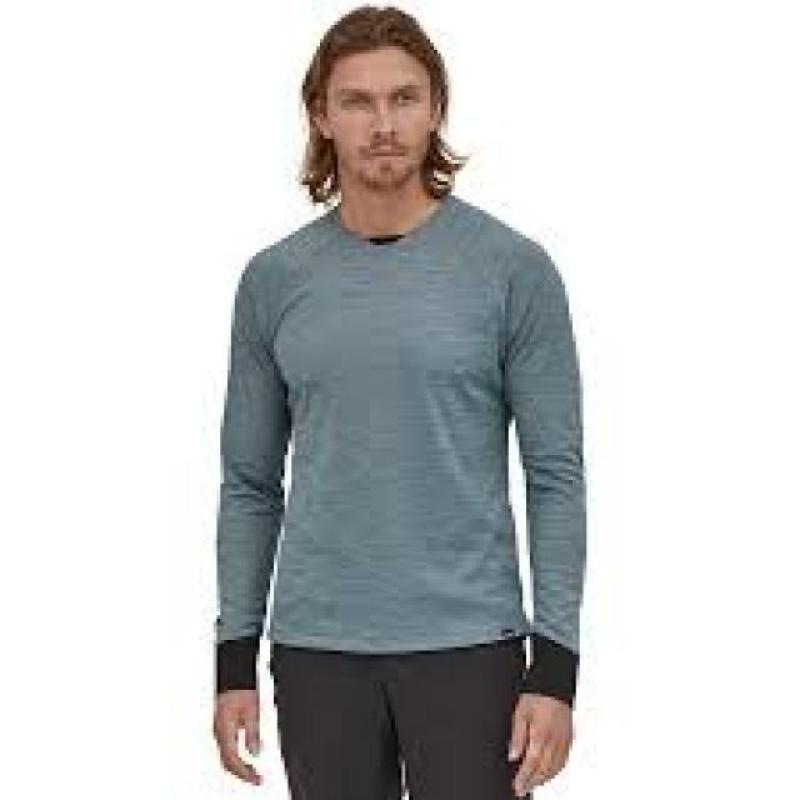long sleeve shirt: (215, 197, 589, 709)
trousers: (269, 643, 534, 800)
